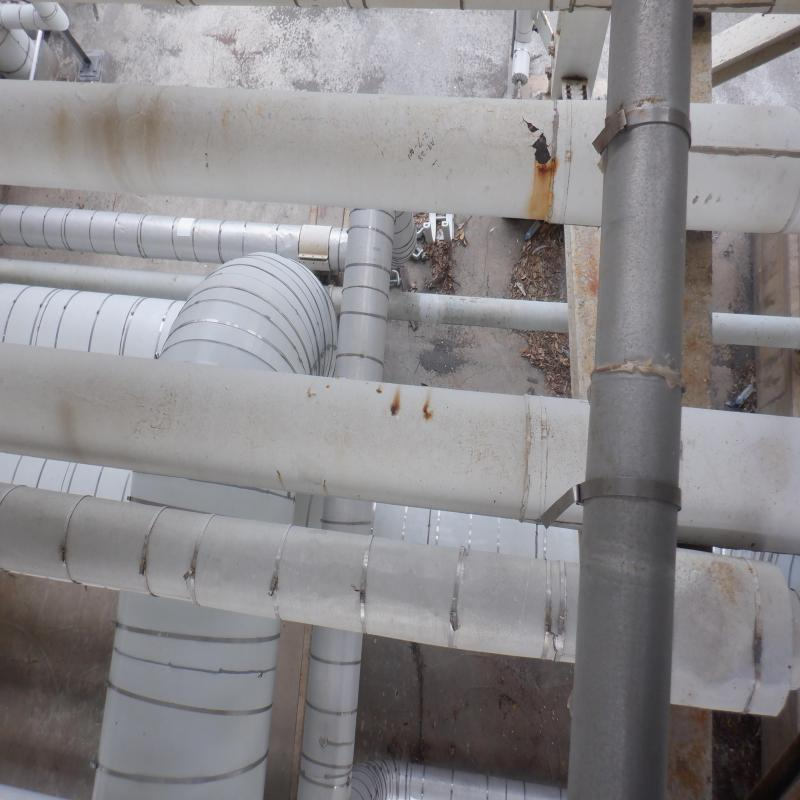corrosion: (534, 161, 555, 225), (388, 396, 404, 417), (422, 405, 434, 418)
